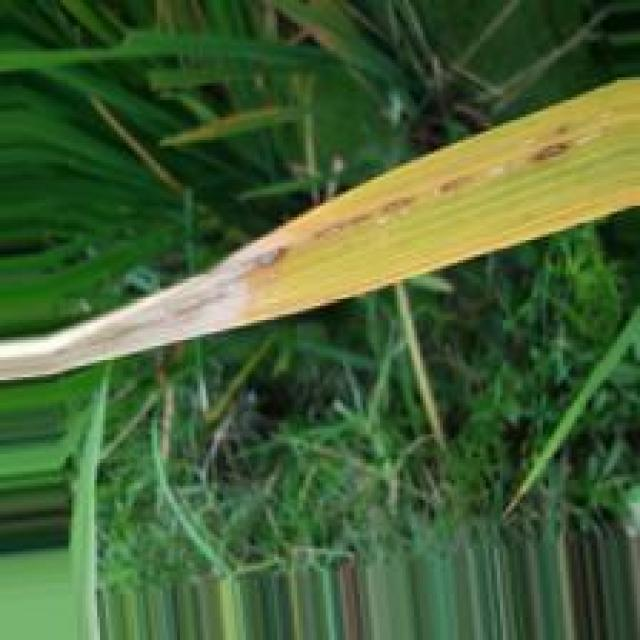Rice False Smut: (2, 237, 292, 380), (305, 136, 576, 249)
